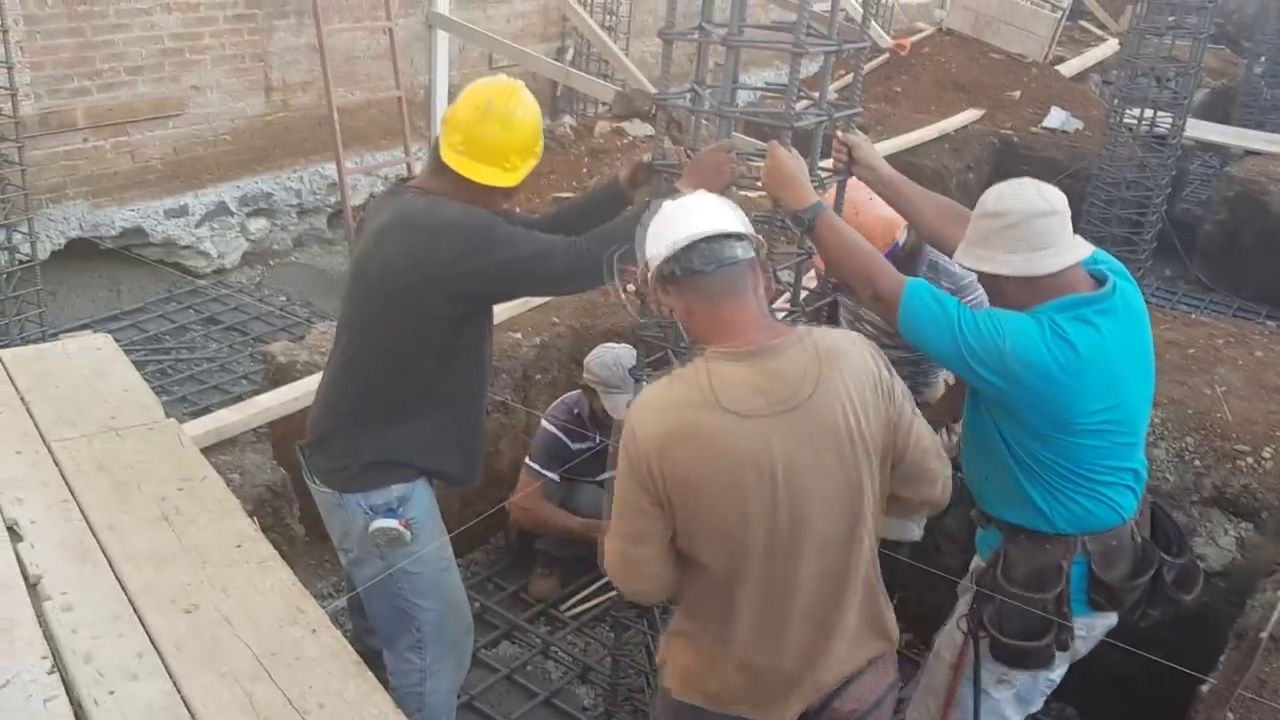helmet: (642, 180, 768, 291), (438, 74, 547, 189), (813, 176, 910, 274)
helmet-off: (960, 177, 1107, 314), (581, 344, 644, 428)
helmet-on: (635, 183, 782, 352), (392, 73, 547, 213), (813, 175, 930, 283)
person: (285, 73, 664, 720), (805, 159, 1165, 720), (600, 178, 953, 720), (823, 174, 987, 623), (516, 342, 653, 620)
